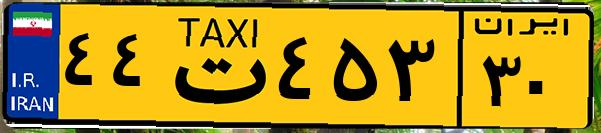0: (525, 38, 570, 115)
3: (385, 28, 445, 110), (475, 38, 525, 113)
4: (270, 28, 330, 110), (57, 26, 110, 100), (110, 28, 158, 98)
5: (330, 28, 385, 110)
ت: (158, 12, 270, 120)
